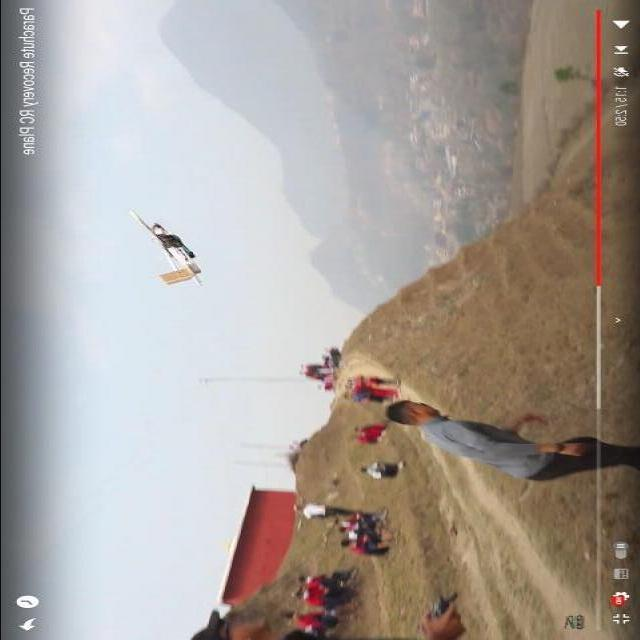plane: (127, 208, 202, 287)
